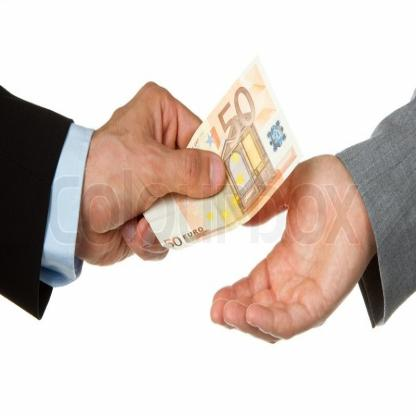billete: (140, 50, 305, 251)
